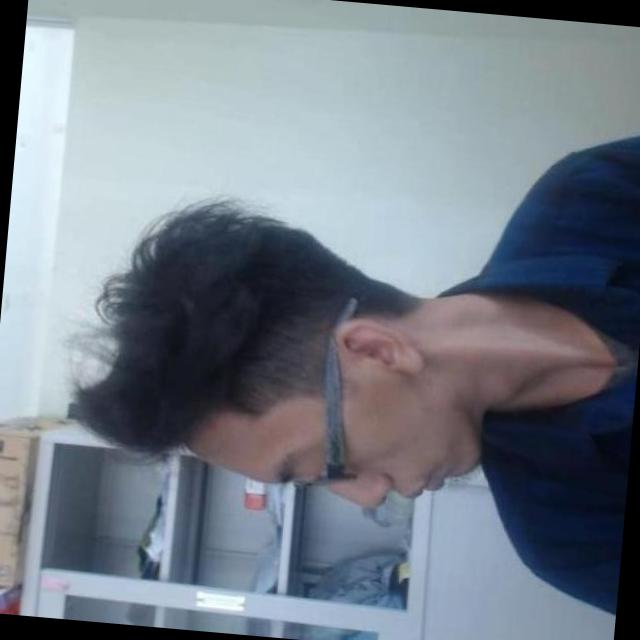bareface: (79, 175, 512, 587)
